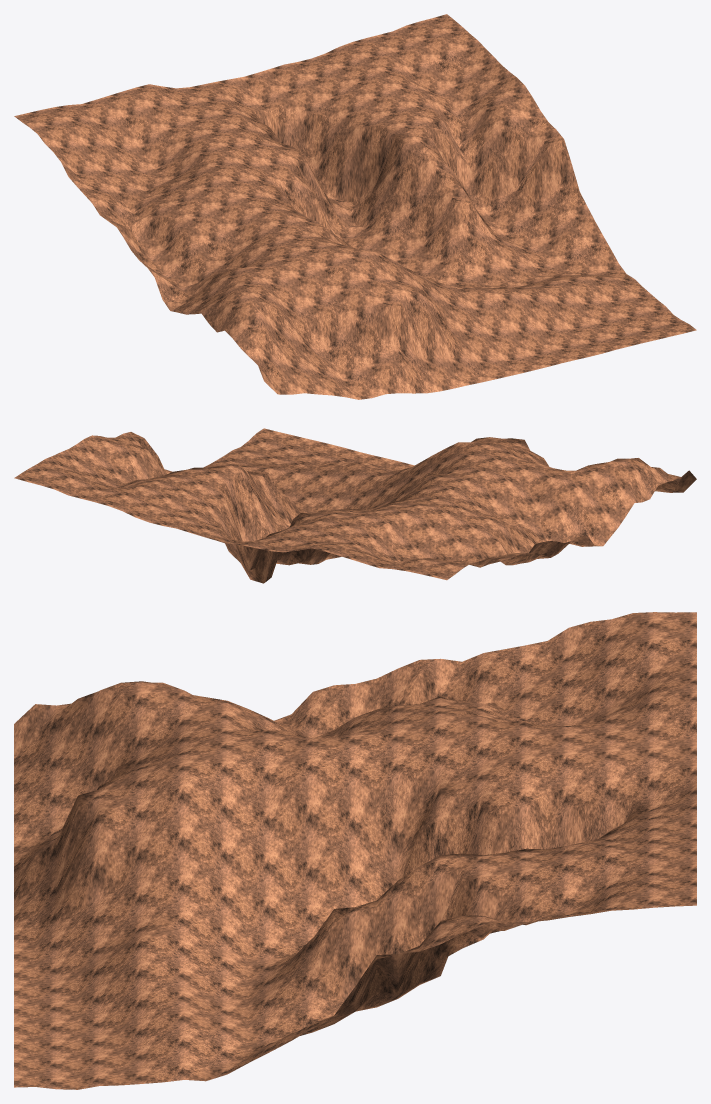
File: terrain_01_21.dae
3 renders of one model, top to bottom at view 1: azimuth 30°, elevation 25°; view 2: azimuth 150°, elevation 25°; view 3: azimuth 270°, elevation 25°, orthographic. The views are drawn at different scales.
Parts seen in each view (by area): view 1: terrain_01_21-node; view 2: terrain_01_21-node; view 3: terrain_01_21-node.
Boxes of the visible parts, x1=… form: terrain_01_21-node: x1=14, y1=14, x2=696, y2=399; terrain_01_21-node: x1=14, y1=428, x2=696, y2=583; terrain_01_21-node: x1=14, y1=612, x2=696, y2=1089.
Size of the model in its own units: 128 by 128 by 39.16.
Materials: 1 (1 with a texture image).
